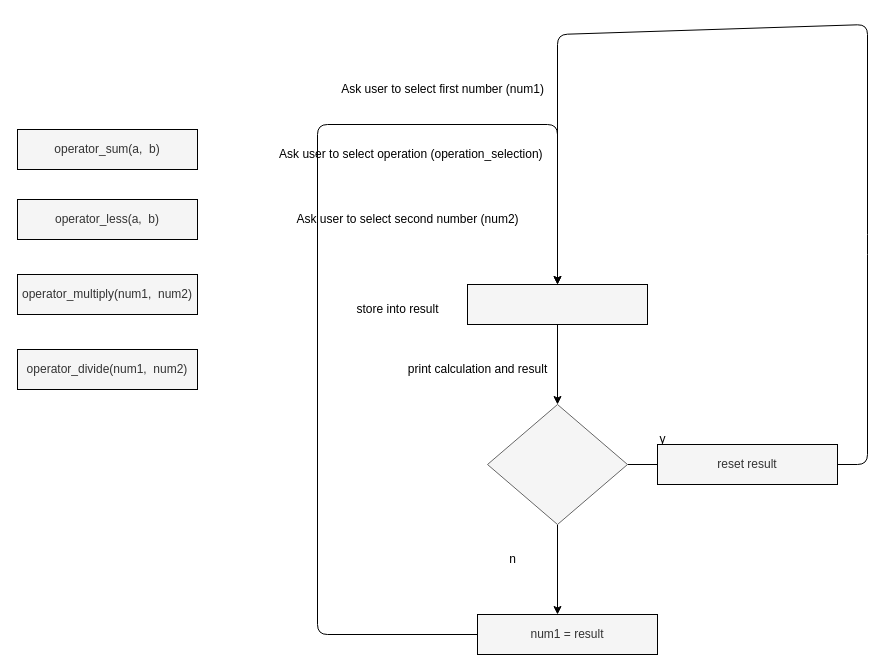
This 893x672 diagram has some shape labels left out. Here are the shapes that lost their labels. From the top down, the centre of each, then its label:
At point 557,304: "calcul(num1, num2)".
At point 557,464: "new calculation y / n ?".
